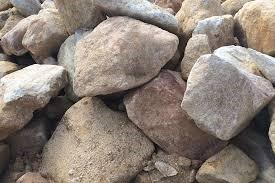rock: (1, 1, 271, 180)
